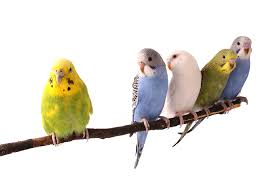budgie: (128, 46, 168, 170), (39, 56, 92, 145), (165, 47, 202, 131), (198, 48, 237, 115), (226, 35, 259, 104)
